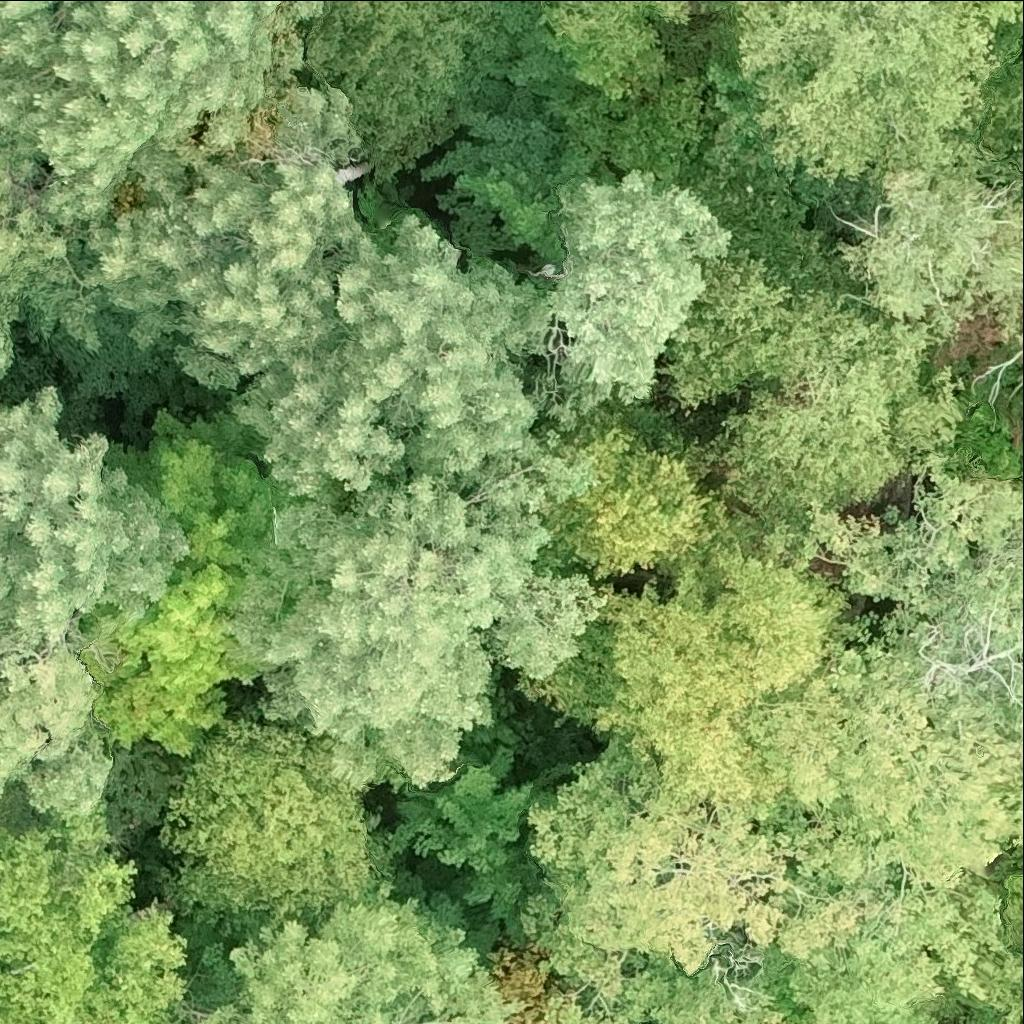crown: (230, 453, 604, 783), (742, 451, 1023, 875), (540, 485, 848, 823), (523, 736, 879, 1023), (237, 217, 554, 515), (658, 239, 964, 531), (89, 88, 368, 396), (0, 0, 321, 219), (716, 0, 1023, 191), (760, 792, 1011, 1023), (0, 385, 188, 653), (549, 169, 733, 422), (162, 718, 370, 926), (0, 805, 190, 1023), (309, 0, 529, 183), (188, 898, 506, 1023), (76, 567, 260, 752), (843, 159, 1023, 344), (101, 411, 302, 574), (532, 406, 715, 578), (404, 742, 555, 938), (0, 127, 108, 345), (0, 615, 115, 818), (540, 0, 691, 94), (0, 0, 93, 48), (990, 962, 1023, 1023), (0, 317, 12, 376), (981, 1015, 1009, 1023)
